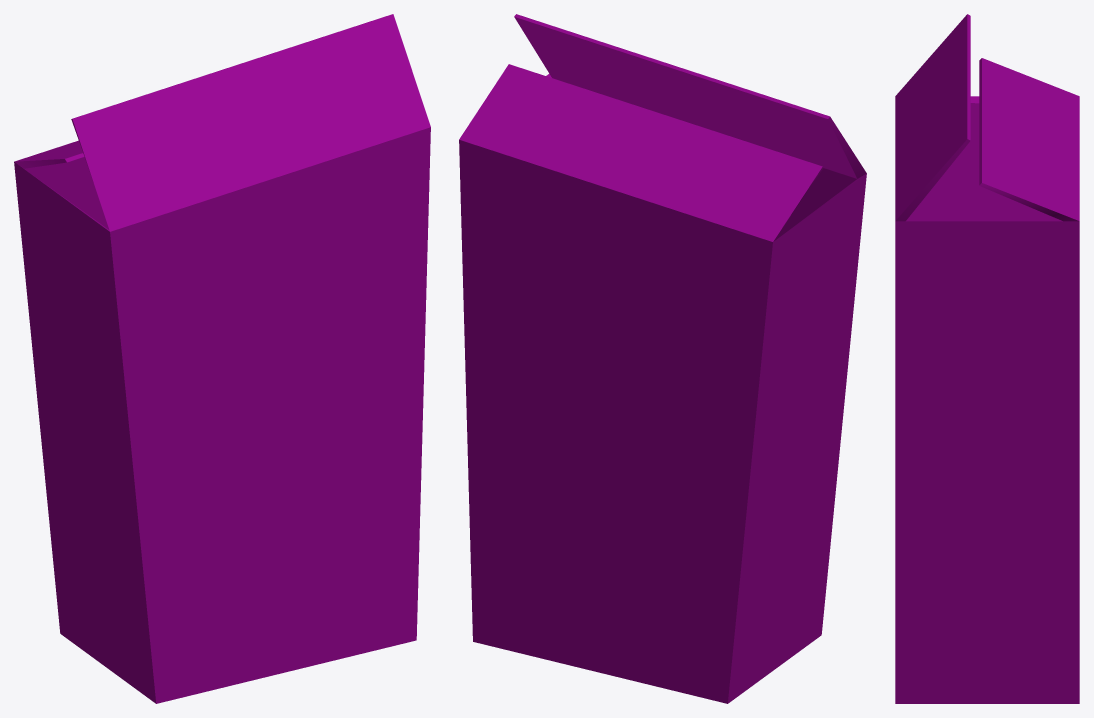
Rendered from Cereal2.FBX.
The picture shows the model from 3 angles, left to right: view 1: azimuth 30°, elevation 25°; view 2: azimuth 150°, elevation 25°; view 3: azimuth 270°, elevation 25°; orthographic projection. The views are drawn at different scales.
Parts seen in each view (by area): view 1: PRP_Cereal2_1; view 2: PRP_Cereal2_1; view 3: PRP_Cereal2_1.
Boxes of the visible parts, left/top/right/bottom form: PRP_Cereal2_1: left=14, top=14, right=430, bottom=703; PRP_Cereal2_1: left=459, top=14, right=866, bottom=703; PRP_Cereal2_1: left=895, top=14, right=1079, bottom=703.
Size of the model in its own units: 25.96 by 45.94 by 13.42.
